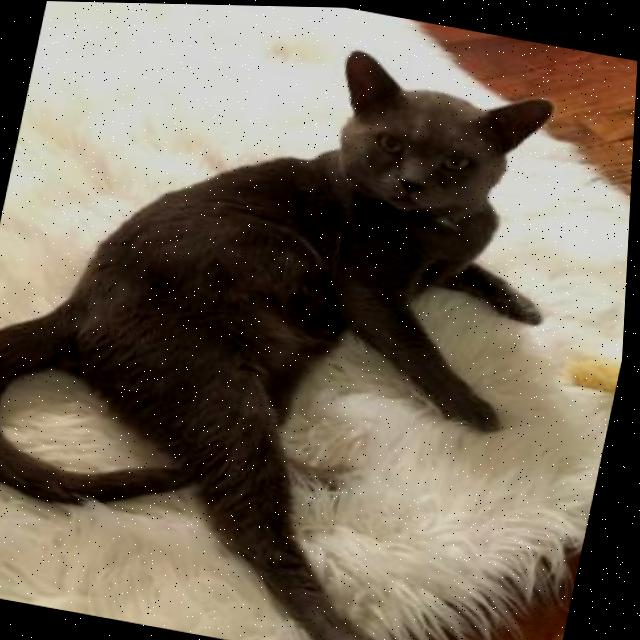Russian Blue: (0, 0, 599, 640)
